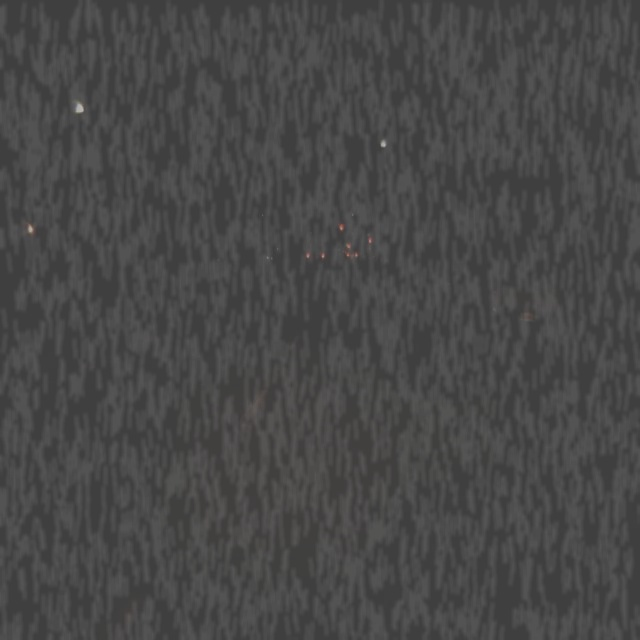stop: (340, 225, 343, 230), (369, 239, 371, 242)
stop traffic light: (339, 224, 343, 238), (368, 237, 372, 246)
